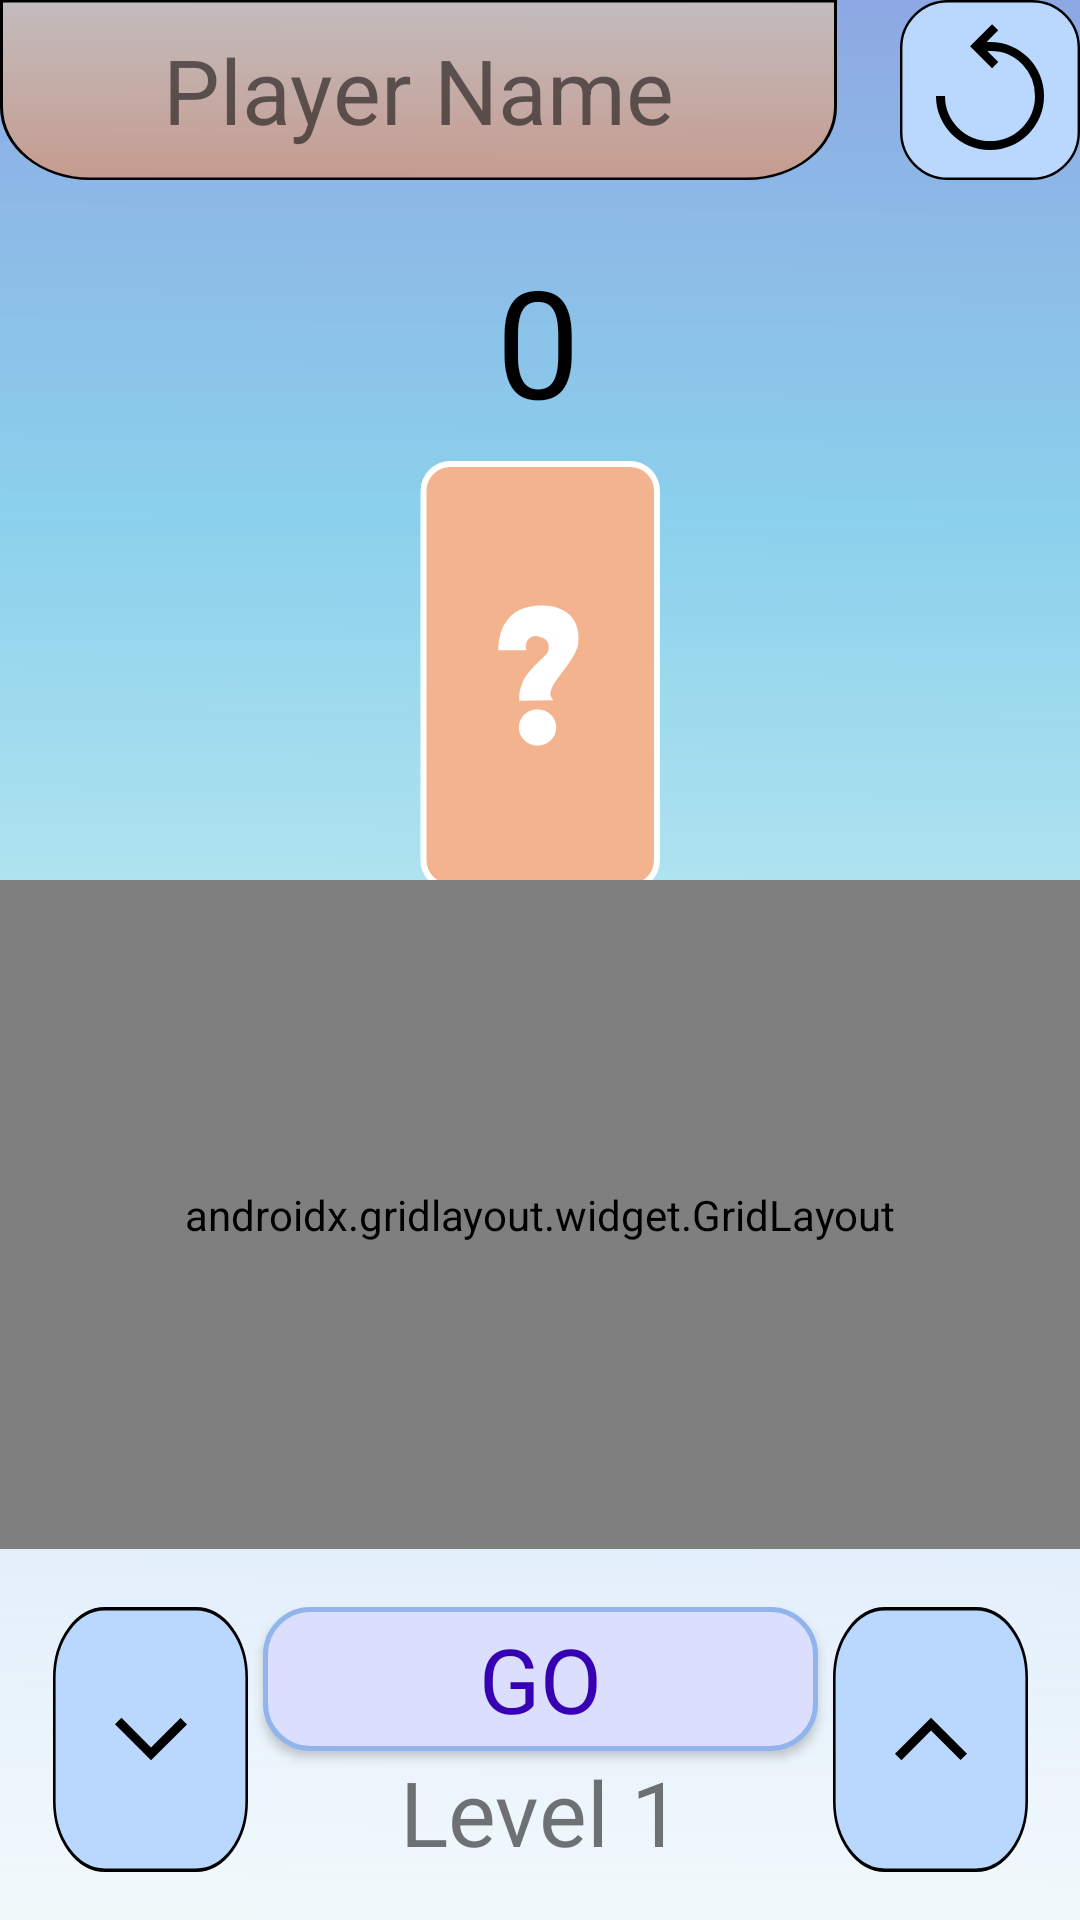

Screen size 1080*1920. Icon name, then its center in pixels as [x,y]:
down: [150,1739]
replay: [990,90]
